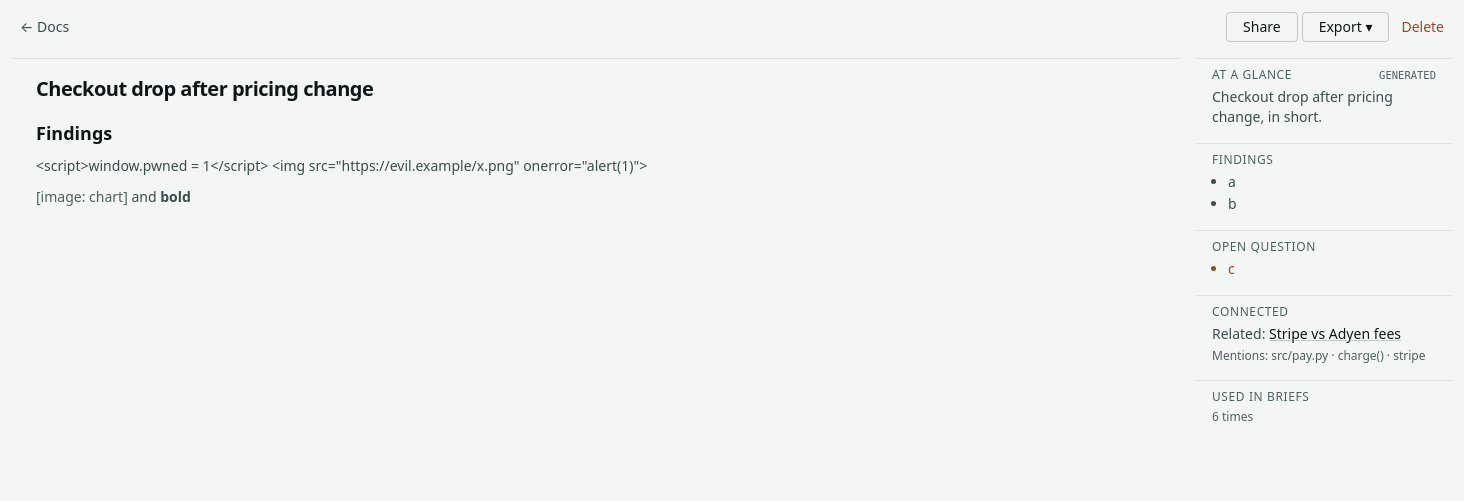
Test: docs view › reads a real doc: raw HTML and images stay text, mentions are listed, and Share offers every team of the person's
Expected: the element with test id "doc-body" shows "[image: chart]", left=36, top=75, right=373, bottom=102
Expected: the text "bold" is shown, left=160, top=187, right=191, bottom=206
Step 1. Click the button "Share" → (1262, 27), box left=1226, top=12, right=1298, bottom=42
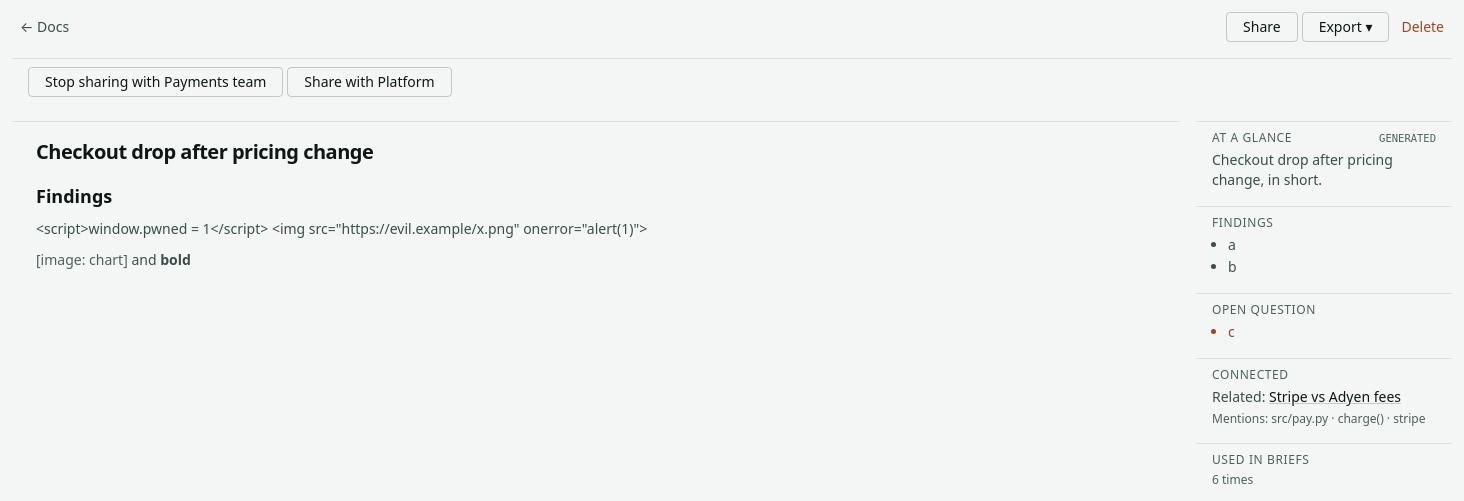
Expected: the buttons read "Stop sharing with Payments team", "Share with Platform", in this order, left=28, top=67, right=283, bottom=97; left=287, top=67, right=452, bottom=97
